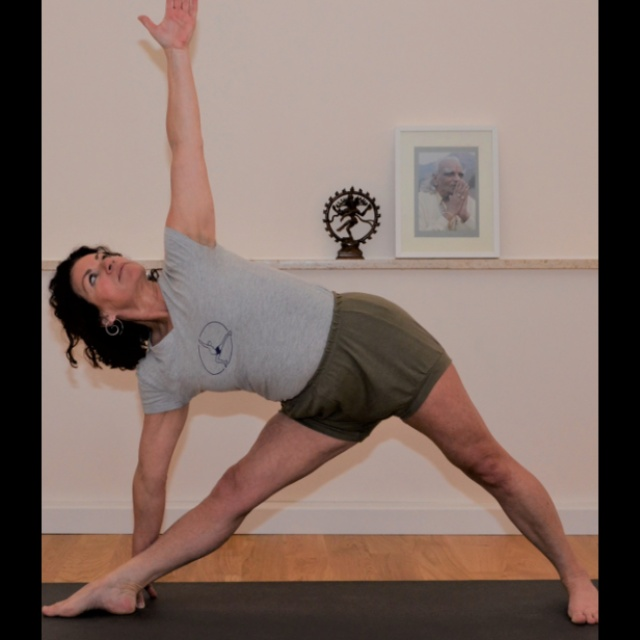Triangle_Pose: (42, 1, 599, 624)
